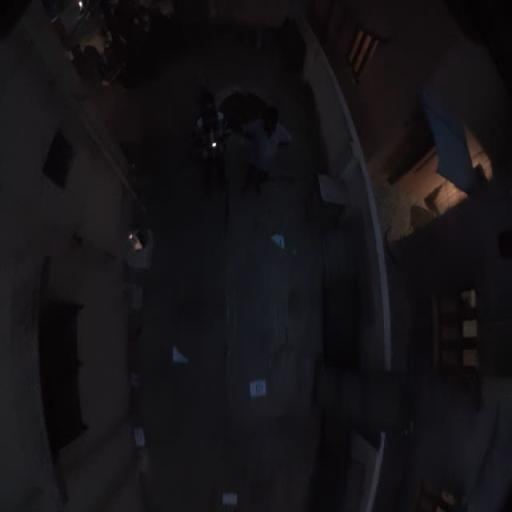T: (248, 377, 266, 398)
U: (132, 426, 146, 448)
